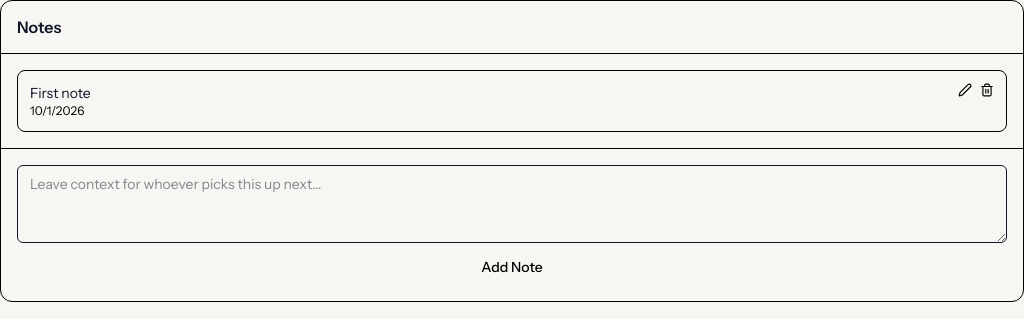
Test: QuoteNoteManager › edits in place: the note text appears once
Click the button named "Edit note": [965, 90] box [958,83,972,97]
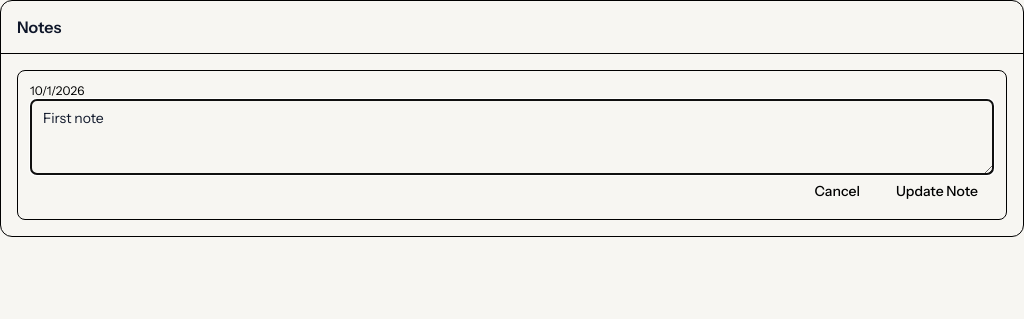
Now the text box named "Edit note text" holds "First note", box [30,99,994,175]
